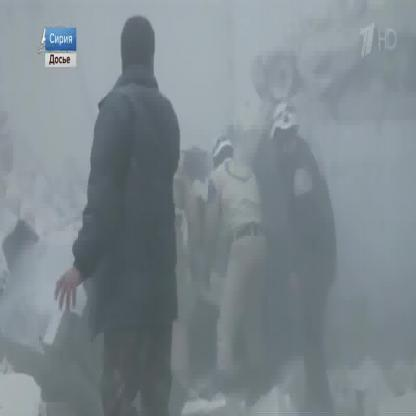helmet: (270, 99, 300, 143), (211, 137, 234, 163)
